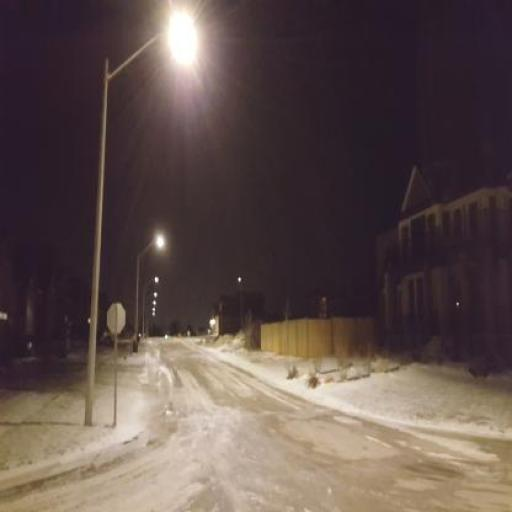street light: (82, 11, 197, 425), (133, 235, 164, 355), (142, 276, 158, 338), (145, 292, 158, 342)
